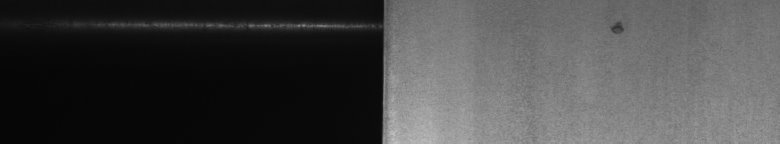fi: (608, 16, 624, 40)
